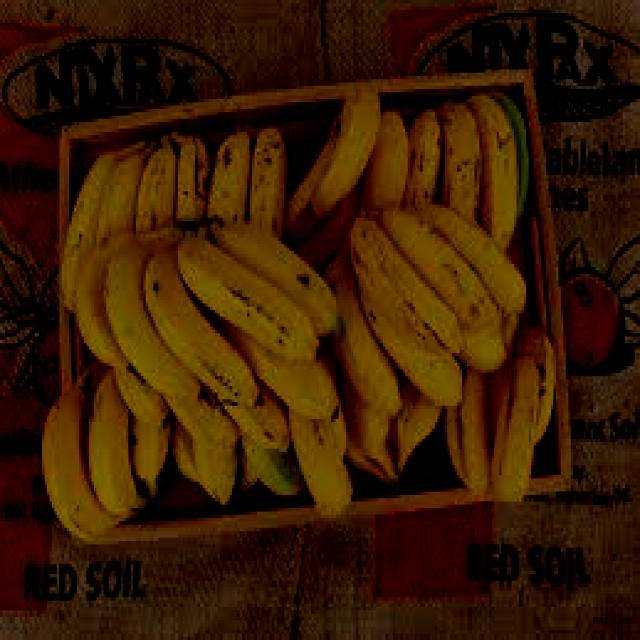Banana: (76, 215, 338, 448), (286, 90, 530, 264), (324, 206, 526, 414), (65, 132, 286, 308), (39, 371, 171, 541), (445, 321, 558, 498)
